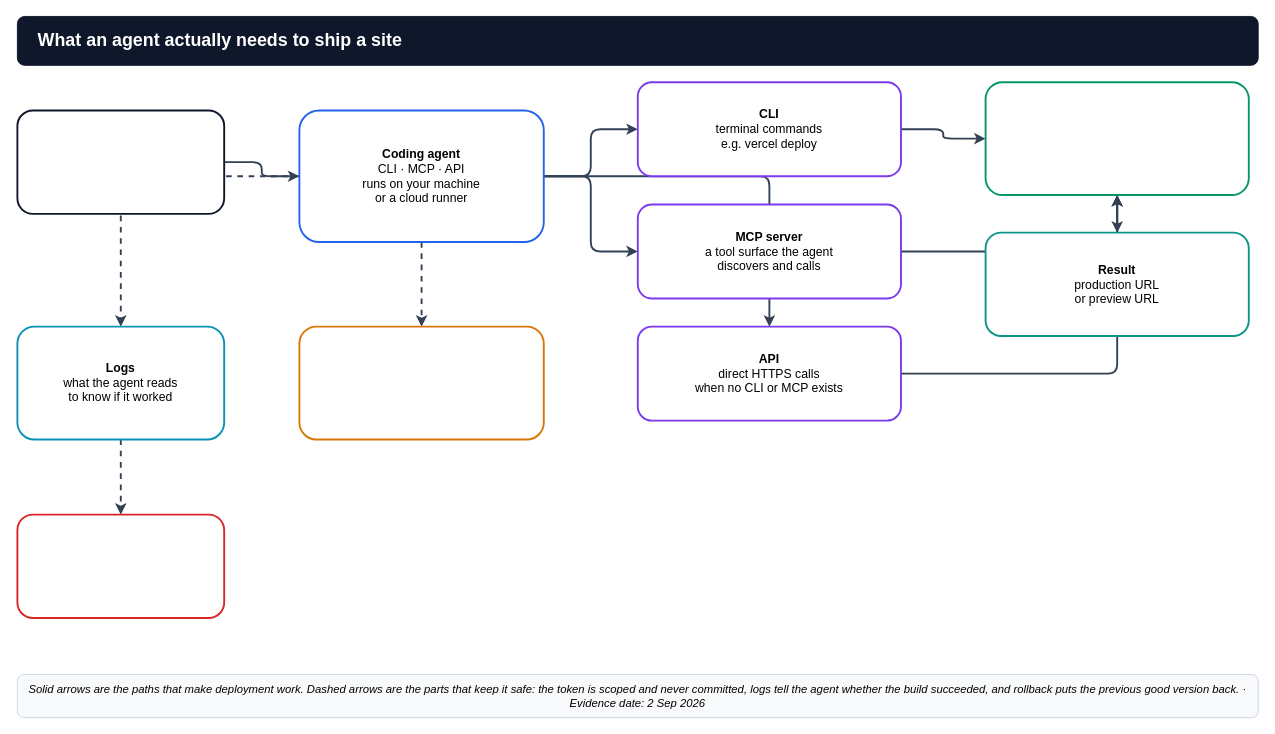
Some shapes in this 1275 by 734 pixel diagram are drawn without their labels. The box of each missing label's shape, as (x1, y1, x2, y2) in pixels:
Auth token scoped key, stored as an environment variable never committed to git: (298, 325, 544, 440)
Rollback put the previous good version back: (16, 513, 225, 619)
Vendor Vercel · Cloudflare · Hetzner · Coolify the service doing the work: (984, 81, 1249, 196)
You ask for a change or a new deployment: (16, 109, 225, 214)
